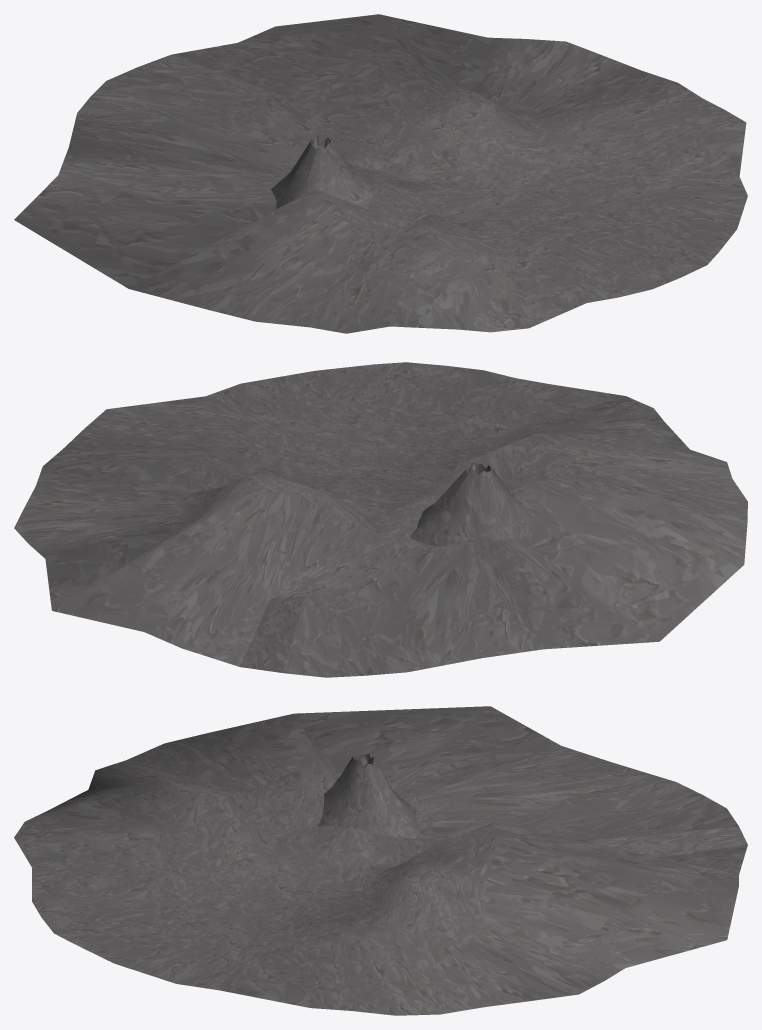
Rendered from map 1.fbx.
The picture shows the model from 3 angles, top to bottom: view 1: azimuth 30°, elevation 25°; view 2: azimuth 150°, elevation 25°; view 3: azimuth 270°, elevation 25°; orthographic projection.
Parts seen in each view (by area): view 1: Map; view 2: Map; view 3: Map.
Boxes of the visible parts, bbox=[...] form: Map: bbox=[14, 14, 747, 333]; Map: bbox=[14, 362, 747, 677]; Map: bbox=[14, 706, 747, 1015].
Size of the model in its own units: 77.04 by 18.86 by 77.19.
